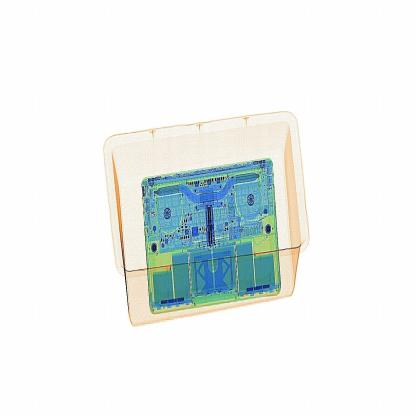scissors: (198, 202, 233, 264)
